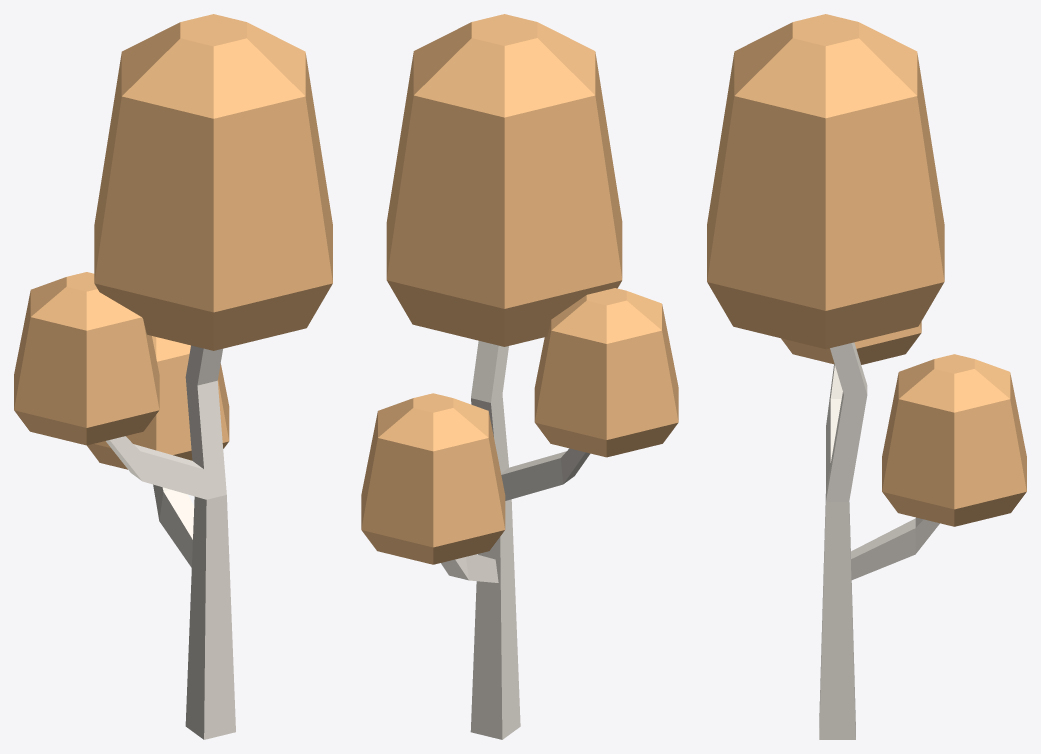
File: tree_thin_fall.gltf
The picture shows the model from 3 angles, left to right: view 1: azimuth 30°, elevation 25°; view 2: azimuth 150°, elevation 25°; view 3: azimuth 270°, elevation 25°; orthographic projection.
Parts seen in each view (by area): view 1: tree_thin_fall; view 2: tree_thin_fall; view 3: tree_thin_fall.
Part boxes in pixels (x1,y1,x2,y2): tree_thin_fall: (14,14,332,739); tree_thin_fall: (361,14,678,739); tree_thin_fall: (707,14,1026,739).
Size of the model in its own units: 0.6804 by 1.49 by 0.6165.
